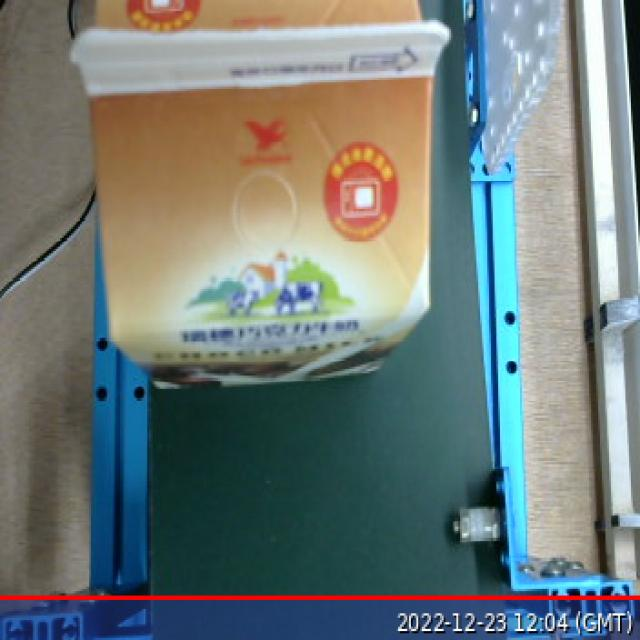non_white_jug: (54, 0, 456, 413)
